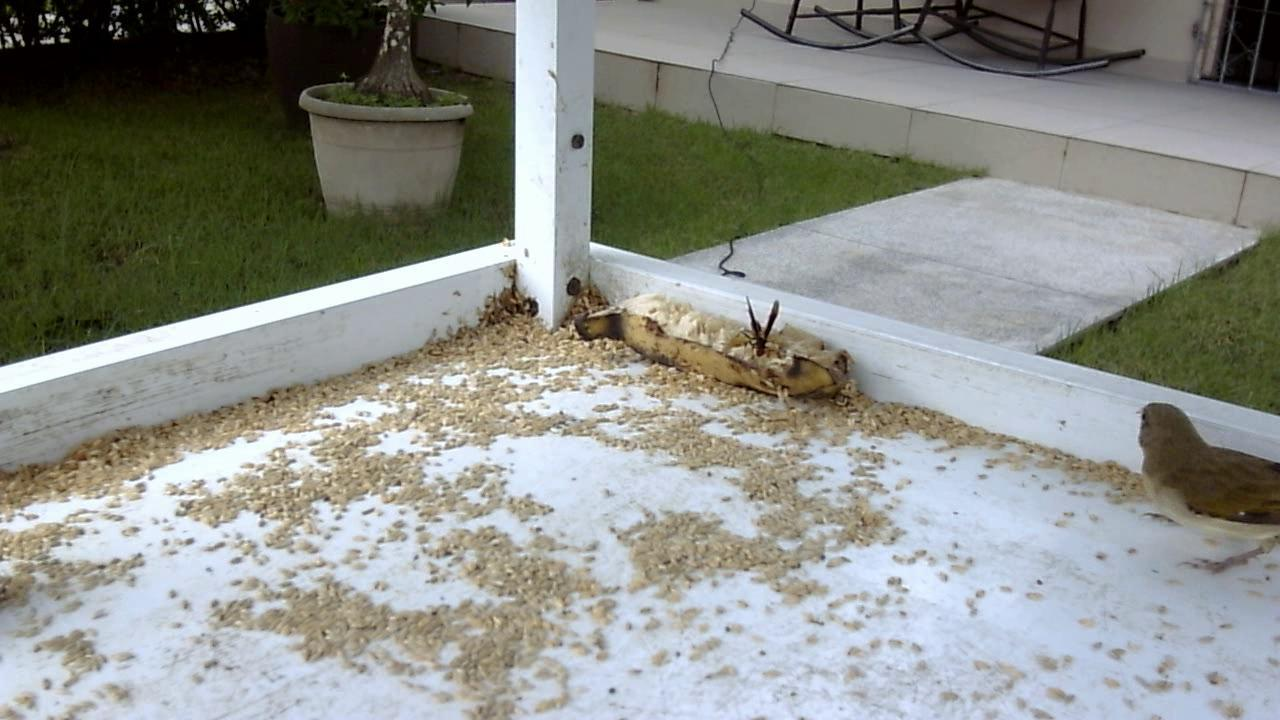canario_do_amazonas: (1117, 398, 1280, 582)
